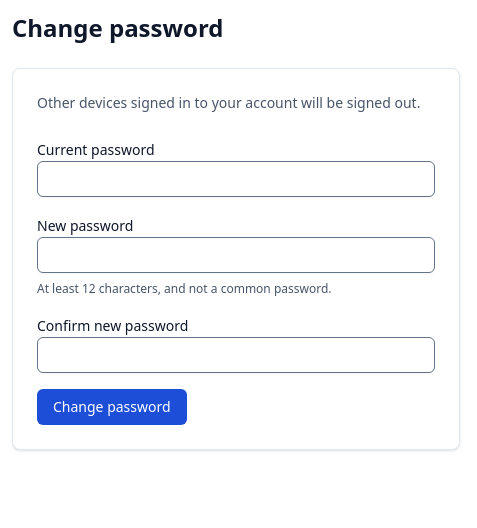
ChangePasswordPage › explains a 422 {"code":"password_rejected","reasons":["breached"]}
Type "old passphrase 123" into the password field labelled "Current password" at (236, 179), box [37,161,435,197]
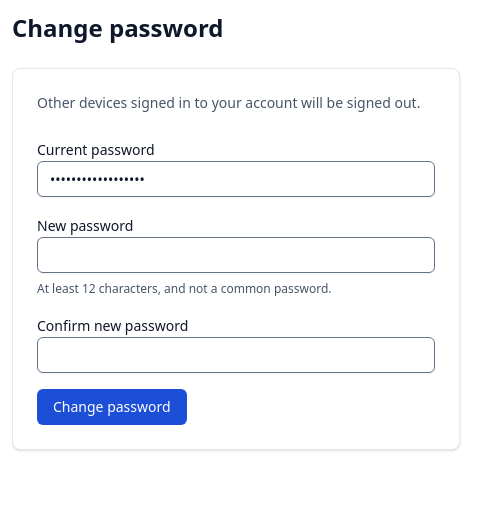
Type "a brand new passphrase" into the password field labelled "New password" at (236, 255), box [37,237,435,273]
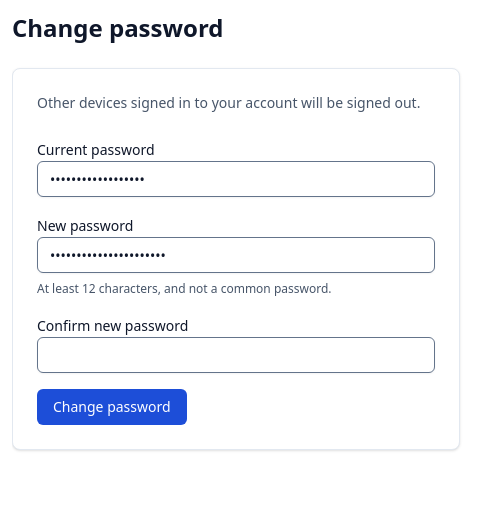
Type "a brand new passphrase" into the password field labelled "Confirm new password" at (236, 355), box [37,337,435,373]
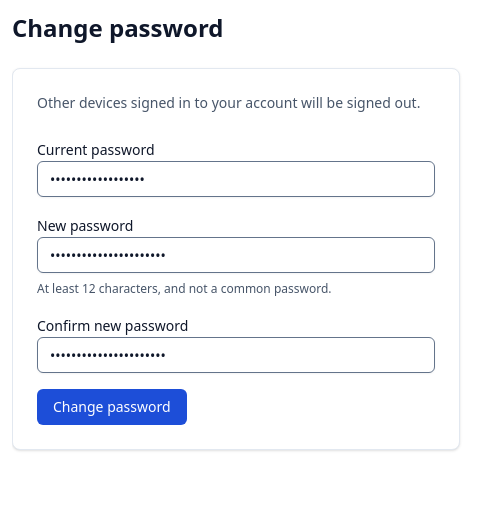
Click the button "Change password" at (112, 407), box [37,389,187,425]
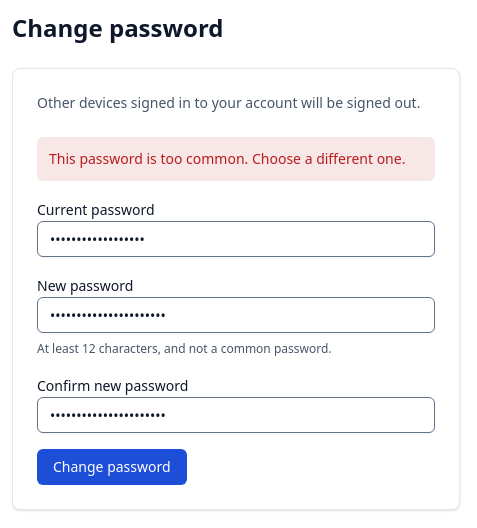
Check: the message shows "This password is too common.", box [49,149,405,168]
